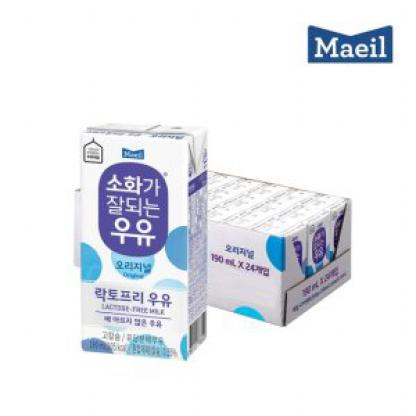tetra: (53, 96, 229, 372)
